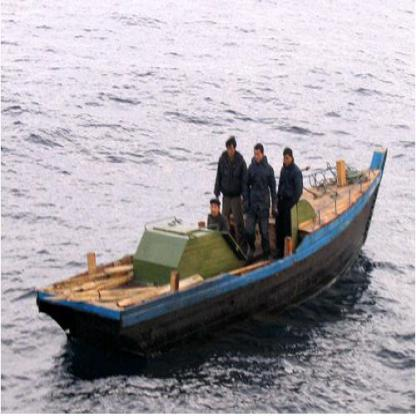fish-b: (30, 128, 393, 361)
